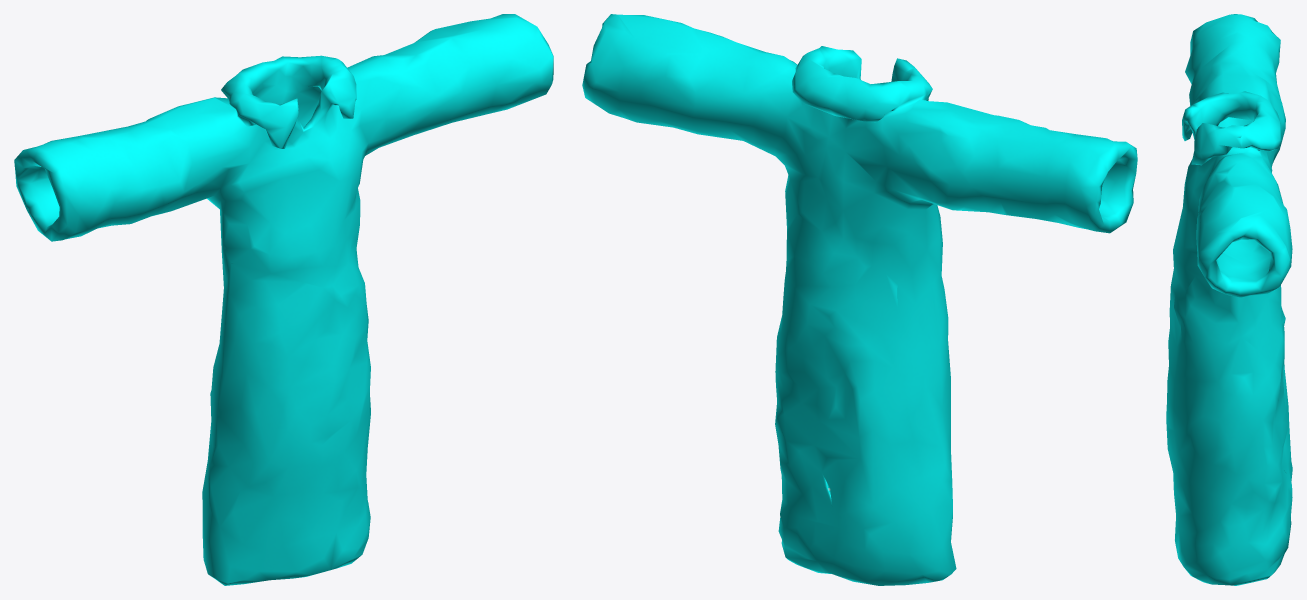
File: collared shirt turquoise.glb
The picture shows the model from 3 angles, left to right: view 1: azimuth 30°, elevation 25°; view 2: azimuth 150°, elevation 25°; view 3: azimuth 270°, elevation 25°; orthographic projection. The views are drawn at different scales.
Parts seen in each view (by area): view 1: shirt_collared_turquoise.001; view 2: shirt_collared_turquoise.001; view 3: shirt_collared_turquoise.001.
Boxes of the visible parts, x1,y1,x2,y2 form: shirt_collared_turquoise.001: [14, 14, 553, 585]; shirt_collared_turquoise.001: [582, 14, 1137, 585]; shirt_collared_turquoise.001: [1166, 14, 1292, 585].
Size of the model in its own units: 0.3711 by 0.3407 by 0.0863.
1 material, 1 textured.
